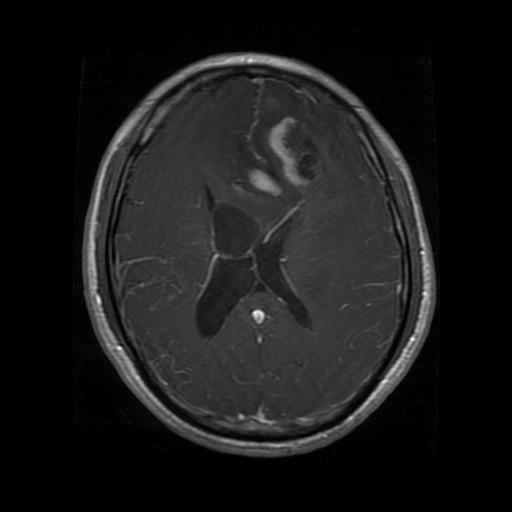Tumour-Glioma: (245, 109, 314, 210)
